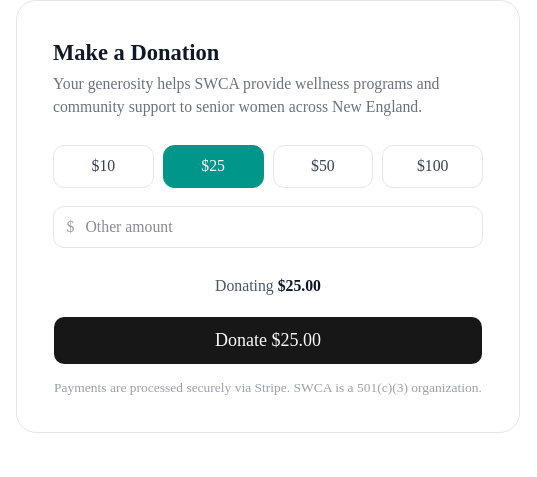
Test: DonationForm › shows error when amount is 0
The width and height of the screenshot is (537, 477).
Type "0" into the number field with placeholder "Other amount" at [268, 227], box [53,206,483,248]
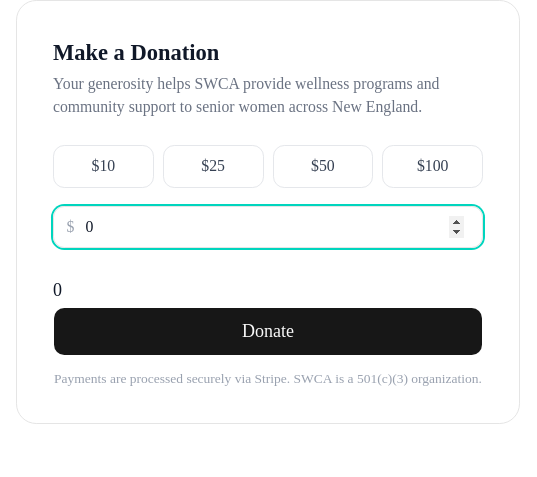
Click the button "Donate" at [268, 331], box [53,306,483,356]
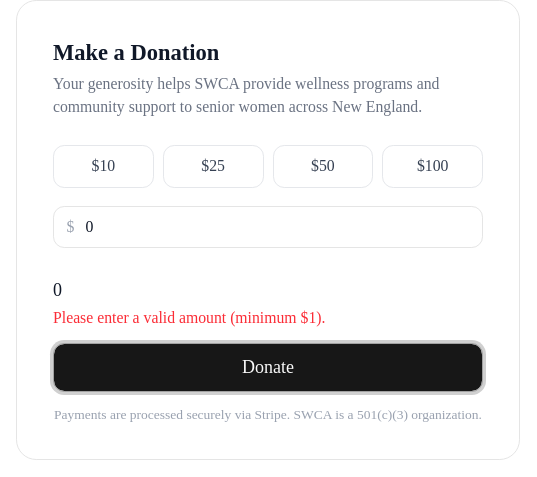
Now the text "Please enter a valid amount (minimum $1)." is shown, box [53,308,326,326]
